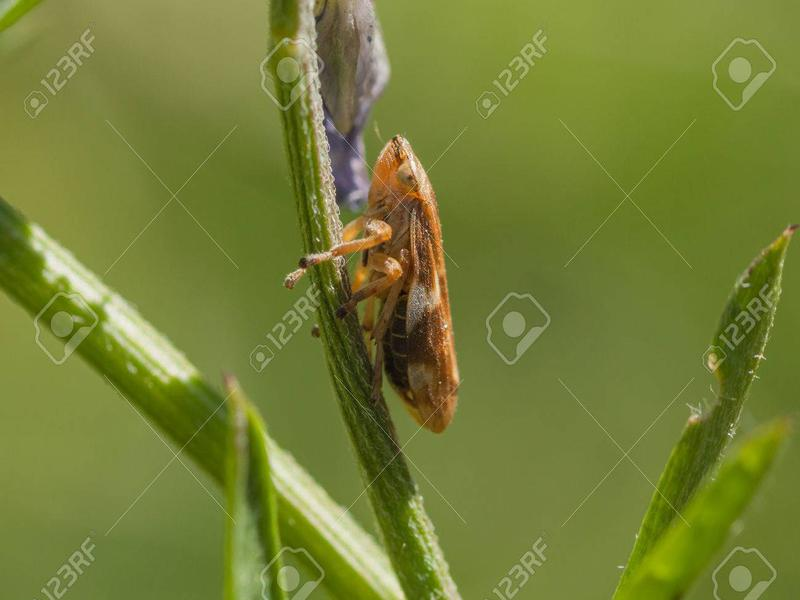Brown_plant_leafhopper: (282, 123, 484, 435)
